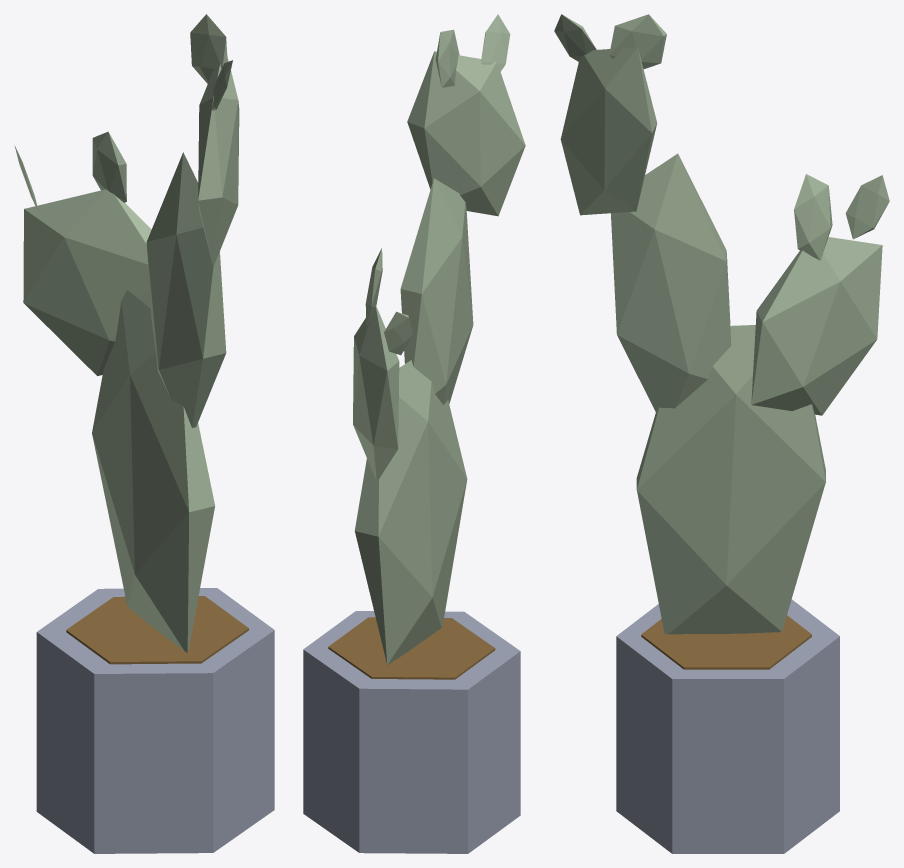
The model's file is cactus.glb.
3 views of the same model, side by side, from view 1: azimuth 30°, elevation 25°; view 2: azimuth 150°, elevation 25°; view 3: azimuth 270°, elevation 25° (orthographic). The views are drawn at different scales.
Visible parts, largest first — view 1: Mesh_Mesh_head_geo.001_lambert2SG.001; view 2: Mesh_Mesh_head_geo.001_lambert2SG.001; view 3: Mesh_Mesh_head_geo.001_lambert2SG.001.
Boxes of the visible parts, x1,y1,x2,y2 form: Mesh_Mesh_head_geo.001_lambert2SG.001: (14,14,274,853); Mesh_Mesh_head_geo.001_lambert2SG.001: (303,14,525,853); Mesh_Mesh_head_geo.001_lambert2SG.001: (554,14,889,853).
Size of the model in its own units: 13.26 by 57.9 by 21.97.
